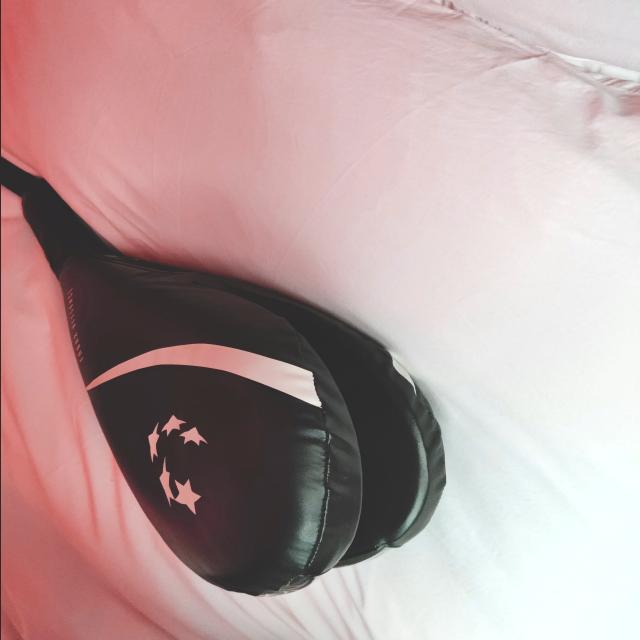paddle: (19, 176, 448, 599)
